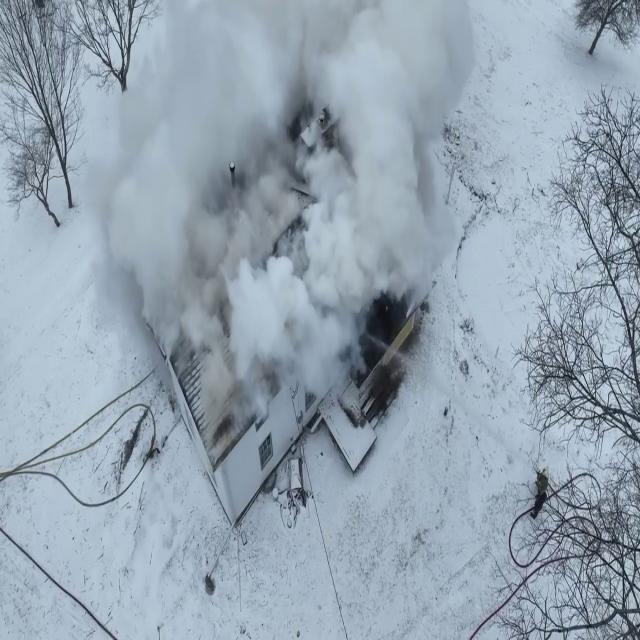Smoke: (29, 0, 477, 462)
